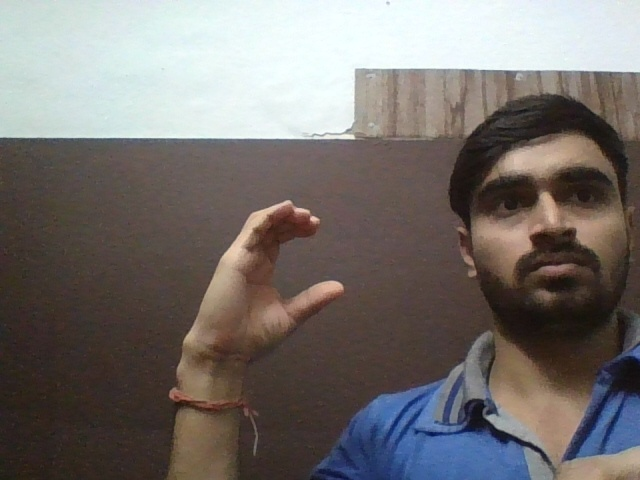C: (201, 190, 354, 356)
